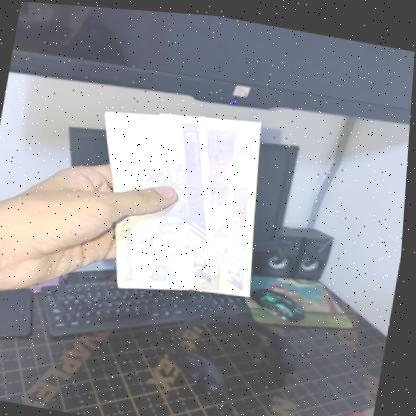vef_back: (76, 94, 249, 303), (179, 106, 283, 296)
